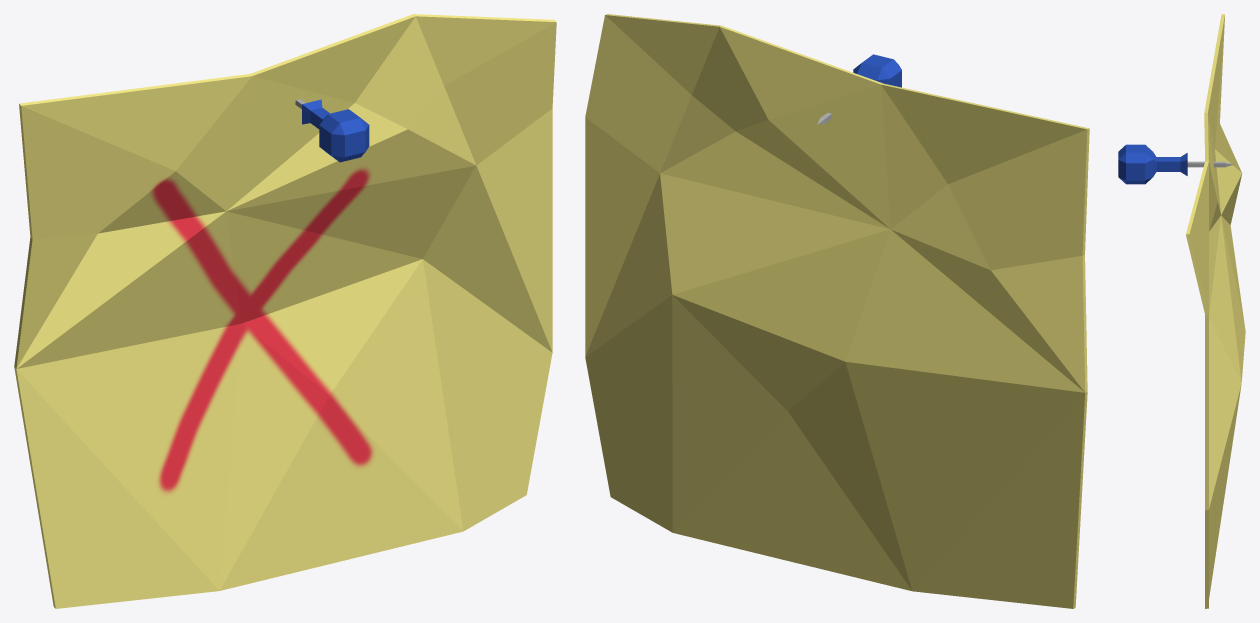
Rendered from Paper Letter X.fbx.
The picture shows the model from 3 angles, left to right: view 1: azimuth 30°, elevation 25°; view 2: azimuth 150°, elevation 25°; view 3: azimuth 270°, elevation 25°; orthographic projection. The views are drawn at different scales.
Visible parts, largest first — view 1: Papier, Punaise; view 2: Papier, Punaise; view 3: Papier, Punaise.
Boxes of the visible parts, x1,y1,x2,y2 form: Papier: [14, 14, 556, 608]; Punaise: [295, 99, 369, 162]; Papier: [585, 14, 1089, 608]; Punaise: [817, 54, 901, 124]; Papier: [1186, 14, 1245, 608]; Punaise: [1118, 144, 1233, 184].
Bounding box in the file's own units: 208 × 200 × 54.89.
